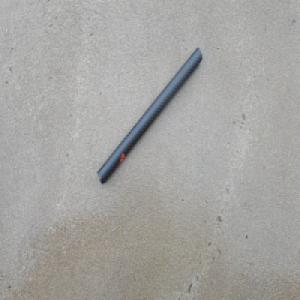LuggagePart: (95, 46, 202, 188)
